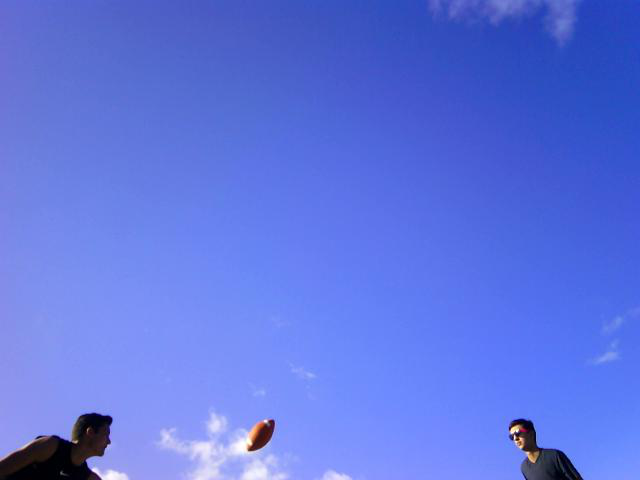football: (243, 416, 281, 458)
